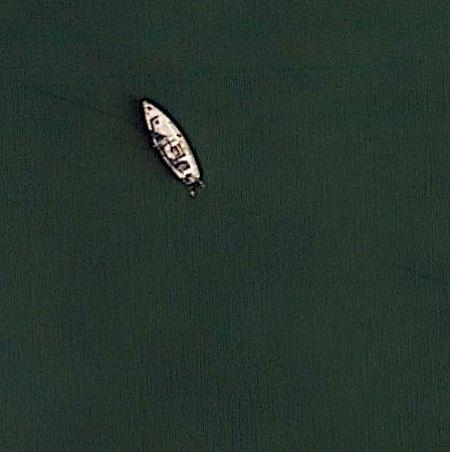Ships: (125, 97, 222, 197)
